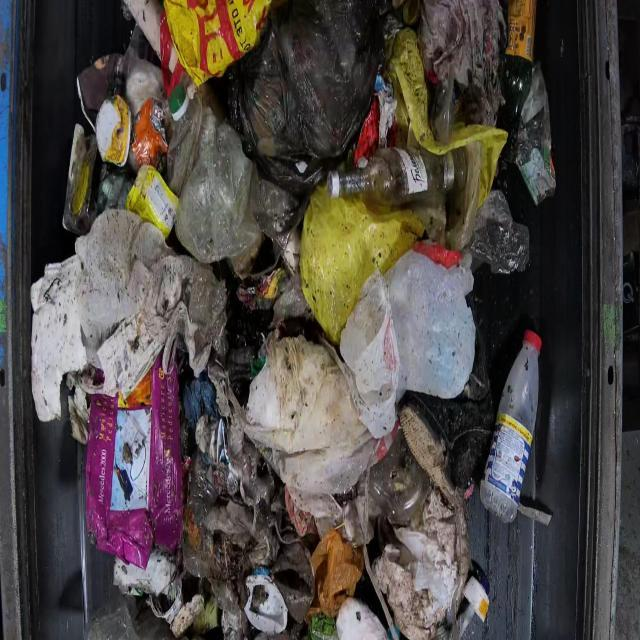bottles: (478, 328, 543, 524)
other-trash: (31, 0, 556, 638)
